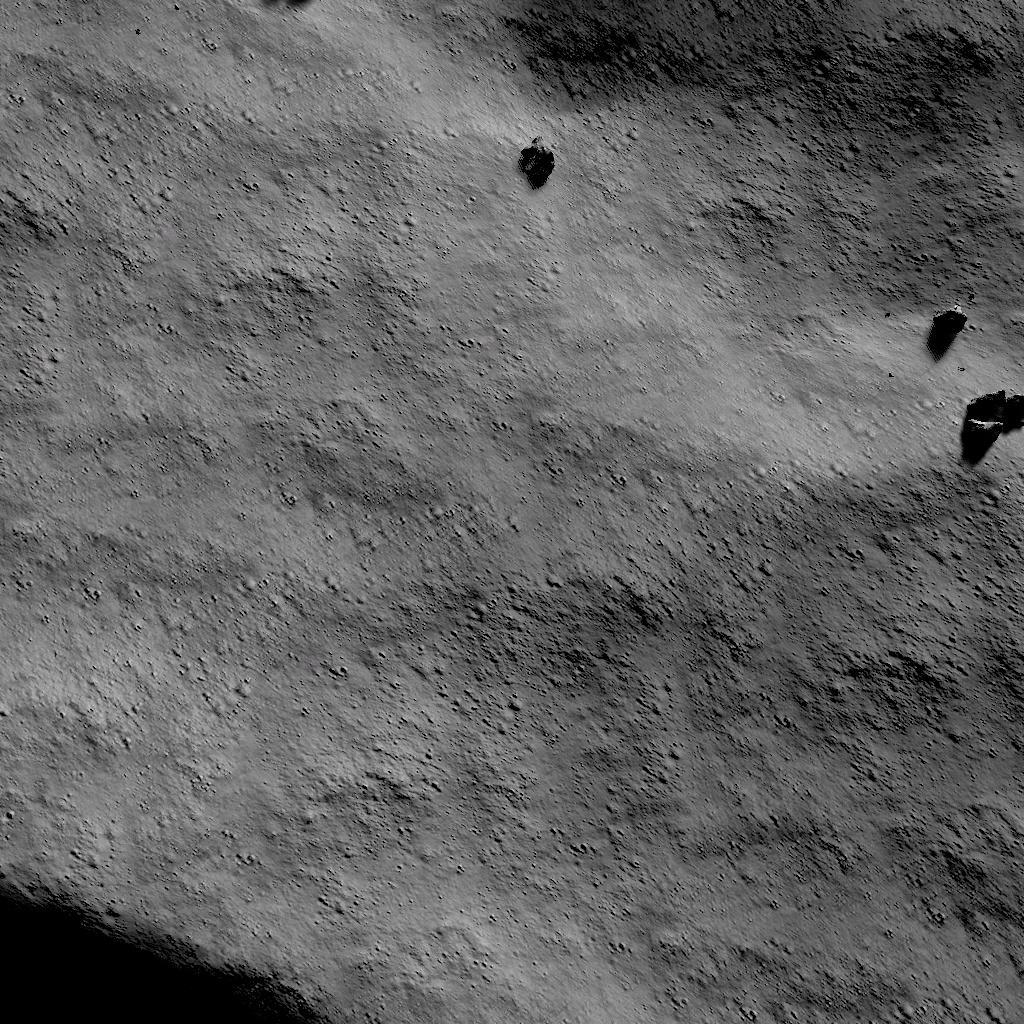Crater: (0, 830, 375, 1024), (0, 0, 170, 319)
Plan surface: (1, 330, 826, 812), (397, 824, 1024, 1024), (191, 64, 480, 310), (845, 484, 1024, 790)
